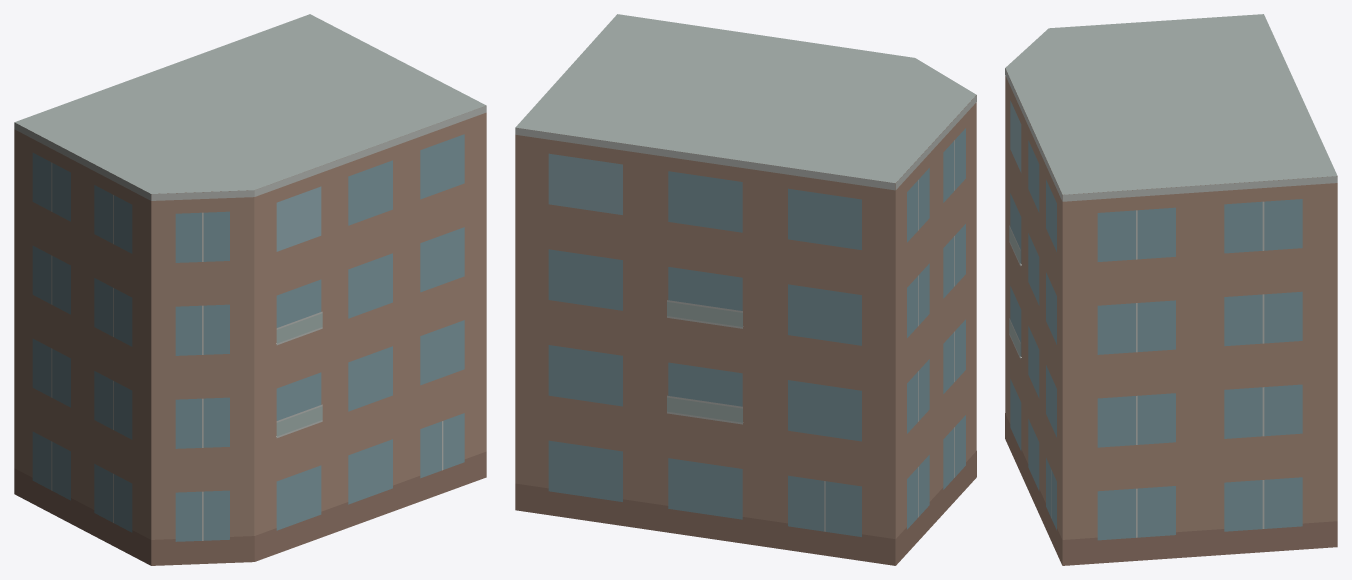
The model's file is survey-upis-32629559.glb.
3 views of the same model, side by side, from view 1: azimuth 30°, elevation 25°; view 2: azimuth 150°, elevation 25°; view 3: azimuth 270°, elevation 25° (orthographic). The views are drawn at different scales.
Visible parts, largest first — view 1: survey-upis-32629559.tmp; view 2: survey-upis-32629559.tmp; view 3: survey-upis-32629559.tmp.
Part boxes in pixels (box(x1,y1,x2,y2)): survey-upis-32629559.tmp: box(14, 14, 486, 565); survey-upis-32629559.tmp: box(515, 14, 976, 565); survey-upis-32629559.tmp: box(1005, 14, 1337, 565).
Bounding box in the file's own units: 13.63 × 13.03 × 10.59.
